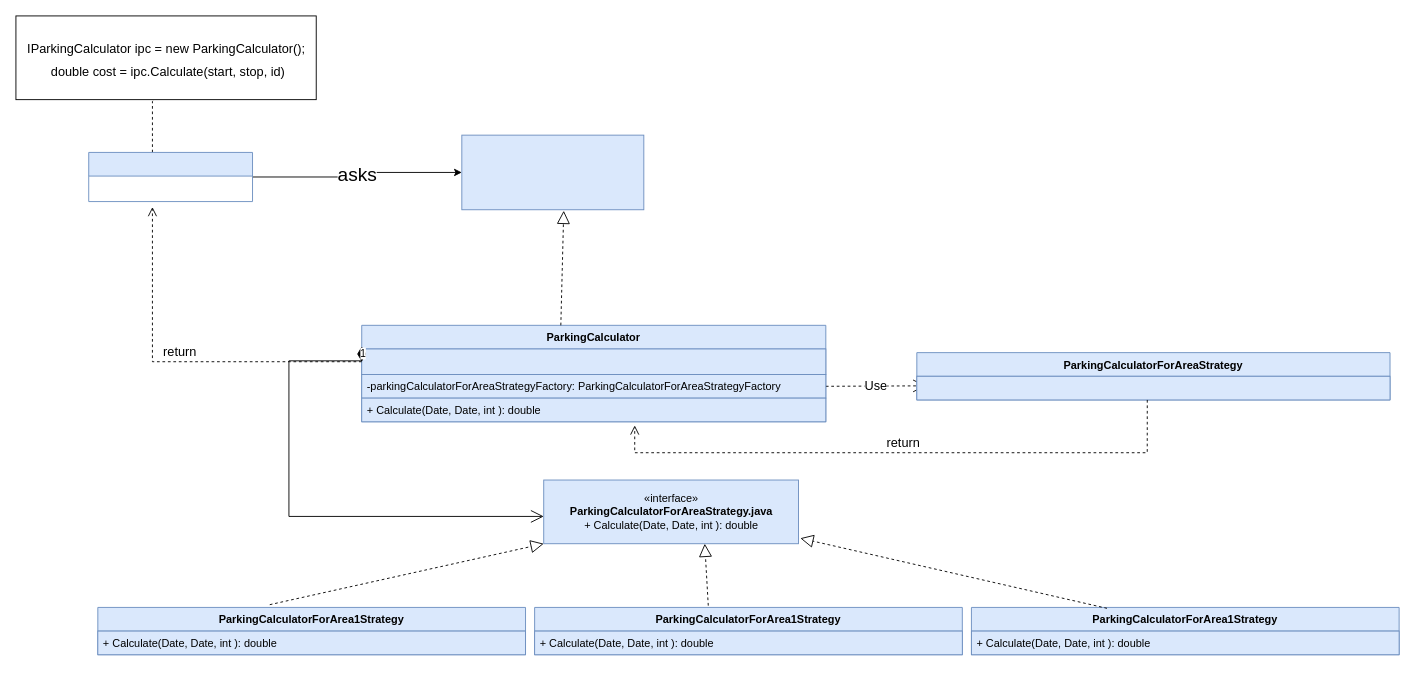
The diagram is 1415 pixels wide and 673 high, and some of its shapes have lost their labels. Here are the shapes that lost their labels. From the top down, the box of each, then its label:
(88, 152, 253, 202): Client
(461, 134, 644, 210): «interface» IParkingCalculator + Calculate(Date, Date, int ): double
(361, 348, 826, 374): - parkingCalculatorForAreaStrategy: ParkingCalculatorForAreaStrategy
(916, 375, 1390, 400): + getParkingCalculatorForAreaStrategy(int): ParkingCalculatorForAreaStrategy
